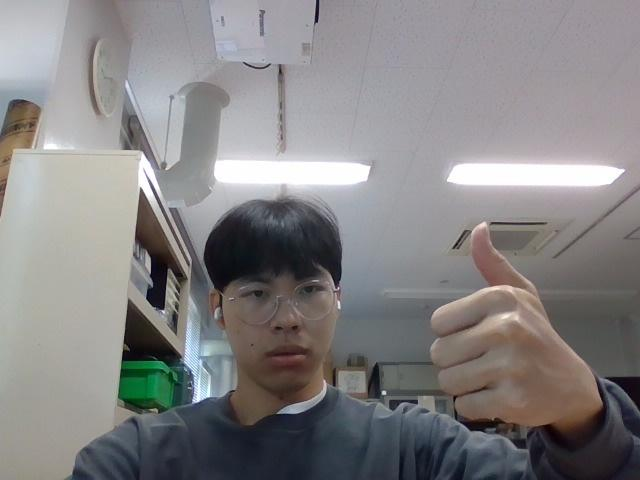thumbs-up: (418, 219, 609, 438)
